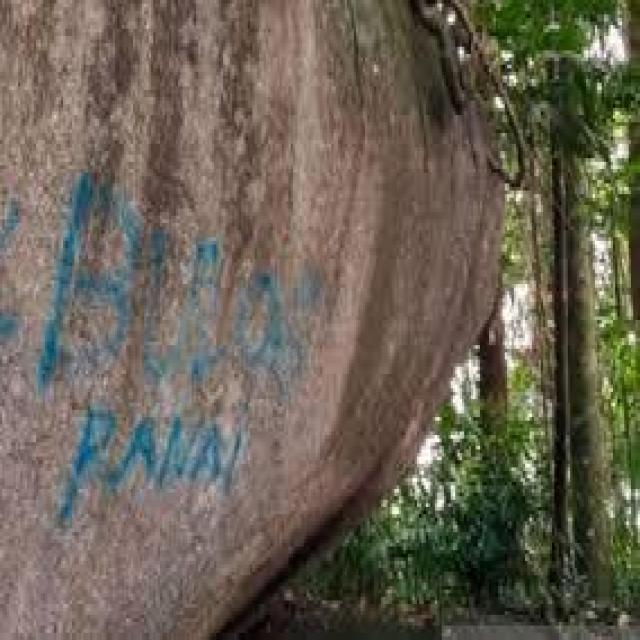nonspitting: (0, 169, 319, 520)
